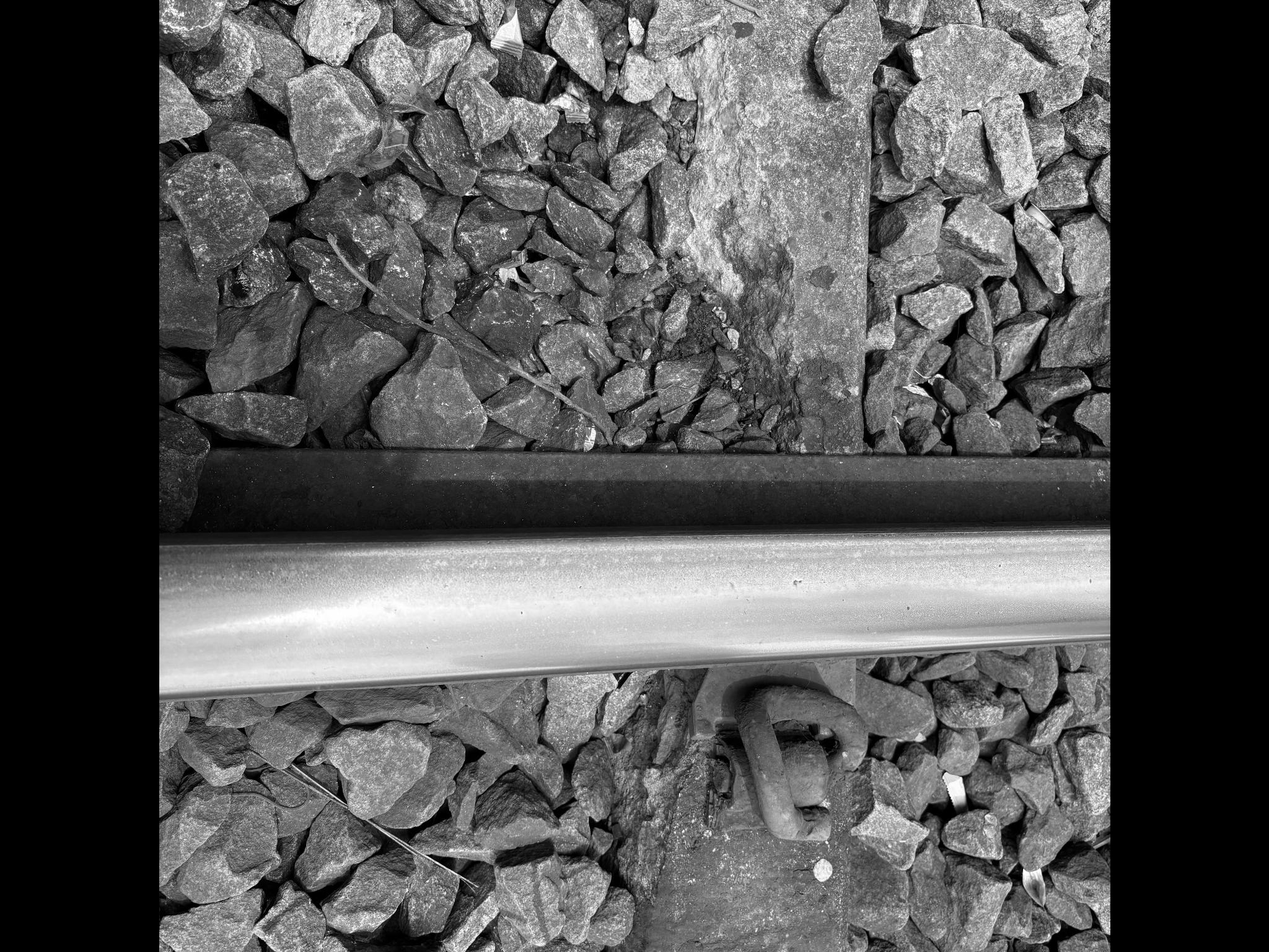cracks under rail seat: (633, 209, 807, 450), (593, 648, 701, 897)
